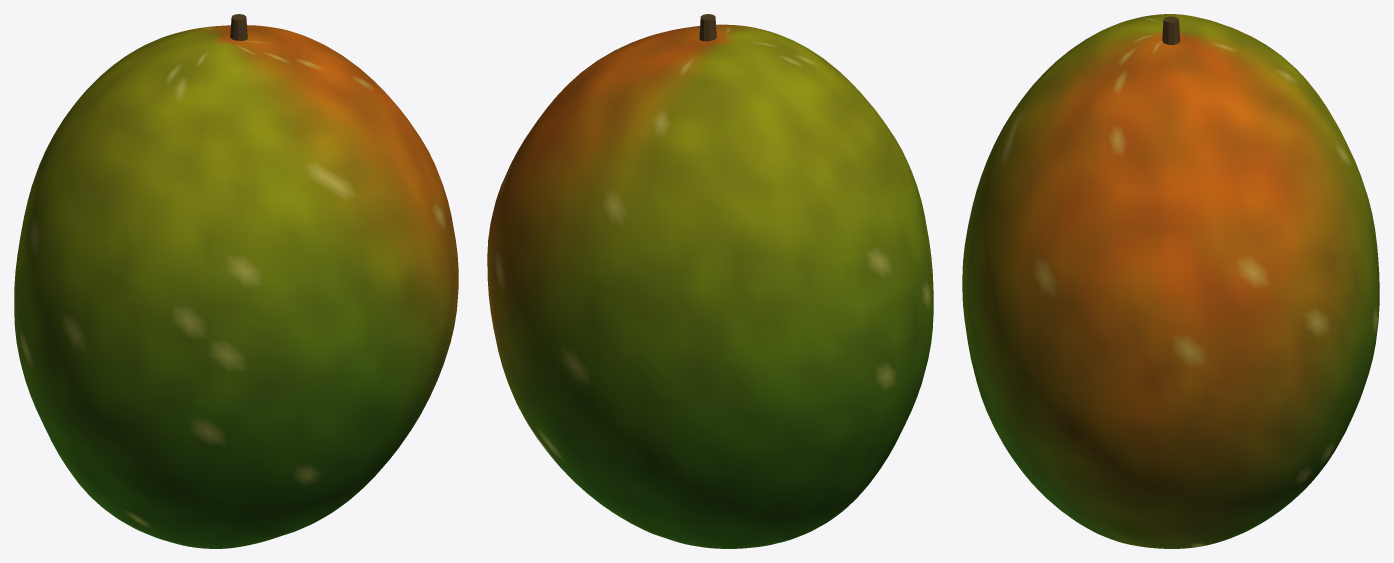
The model's file is mangue-auguste.glb.
The picture shows the model from 3 angles, left to right: view 1: azimuth 30°, elevation 25°; view 2: azimuth 150°, elevation 25°; view 3: azimuth 270°, elevation 25°; orthographic projection.
Parts seen in each view (by area): view 1: entier_peau, moitie_B_peau, moitie_A_peau; view 2: entier_peau, moitie_A_peau, moitie_B_peau; view 3: entier_peau, moitie_B_peau, moitie_A_peau.
Boxes of the visible parts, box(x1,y1,x2,y2) form: entier_peau: box(14, 25, 458, 548); moitie_B_peau: box(40, 36, 457, 548); moitie_A_peau: box(14, 25, 346, 501); entier_peau: box(487, 24, 933, 548); moitie_A_peau: box(488, 36, 907, 548); moitie_B_peau: box(612, 24, 933, 499); entier_peau: box(962, 14, 1379, 548); moitie_B_peau: box(962, 14, 1171, 548); moitie_A_peau: box(1171, 14, 1379, 548).
Size of the model in its own units: 1.68 by 2.08 by 1.52.
